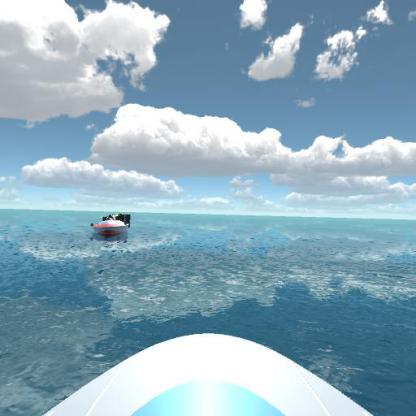usv2: (99, 210, 135, 224)
usv3: (89, 216, 134, 236)
